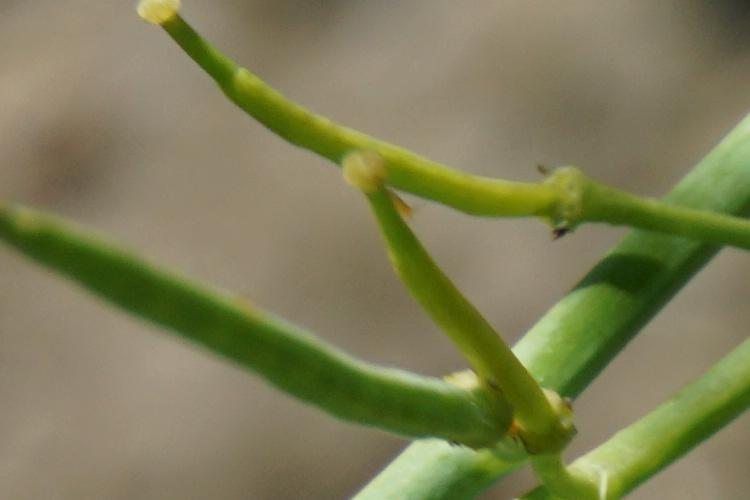pod: (138, 7, 602, 221), (334, 146, 565, 435)
